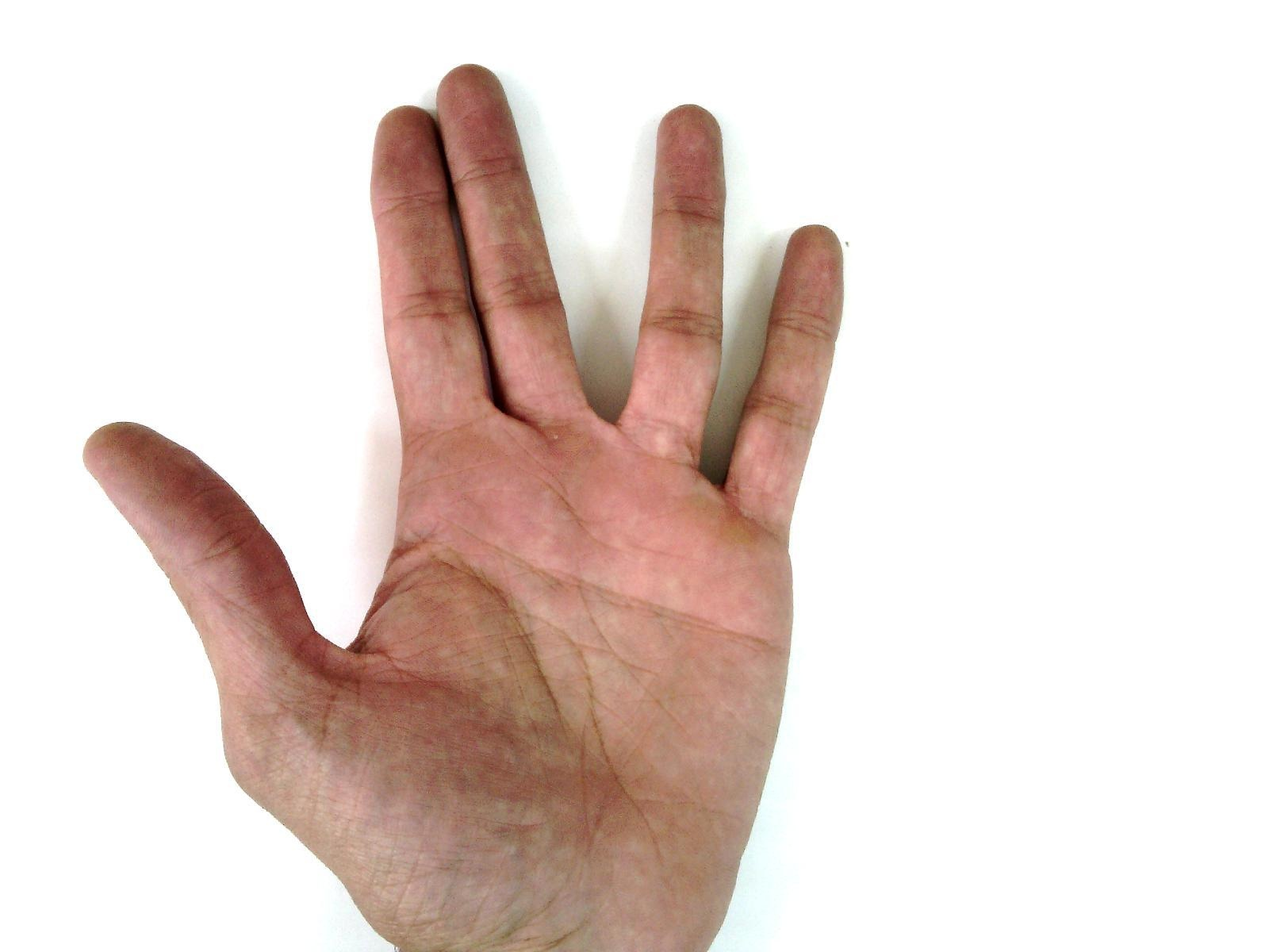open_palm: (81, 63, 849, 951)
